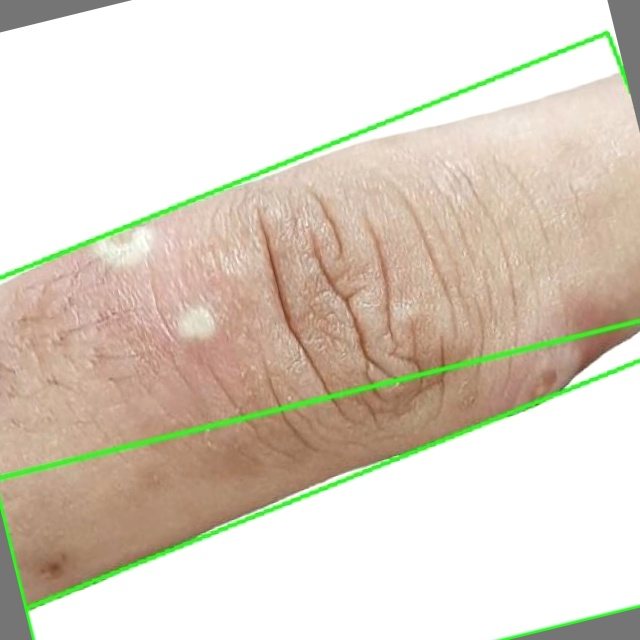Scabies: (0, 32, 639, 610), (0, 320, 639, 639)
